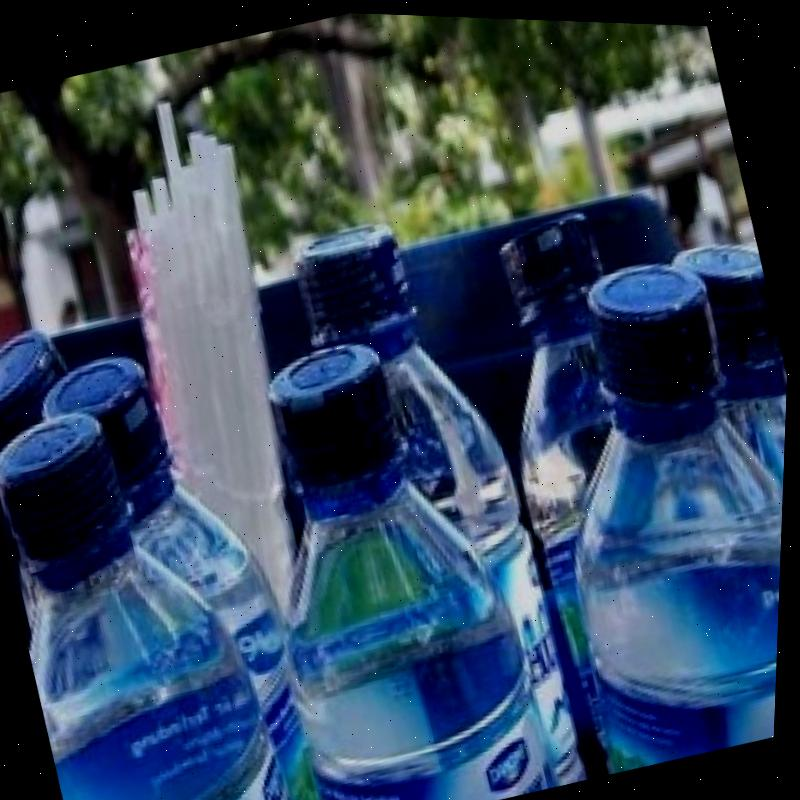botella: (271, 192, 611, 800), (206, 306, 585, 800), (448, 202, 738, 776), (497, 228, 794, 771), (25, 326, 329, 797), (0, 379, 323, 800), (658, 222, 794, 728), (0, 322, 87, 453)
